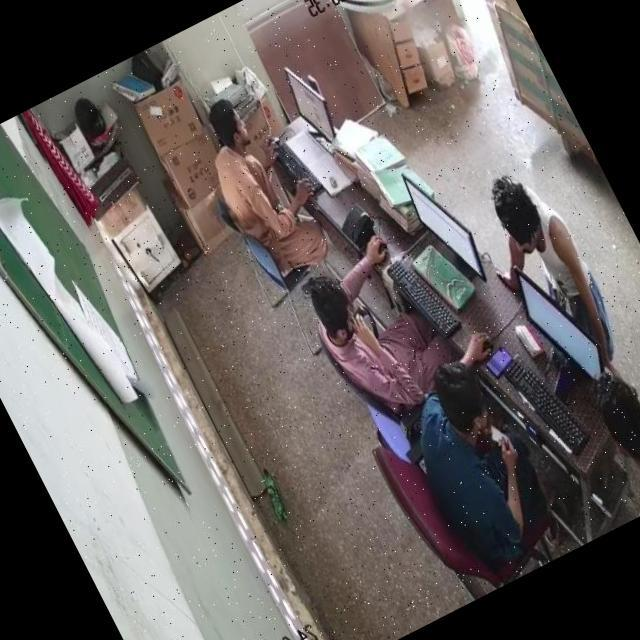person: (369, 345, 567, 587), (486, 158, 623, 362), (300, 257, 452, 439), (190, 96, 312, 272), (582, 377, 640, 516)
